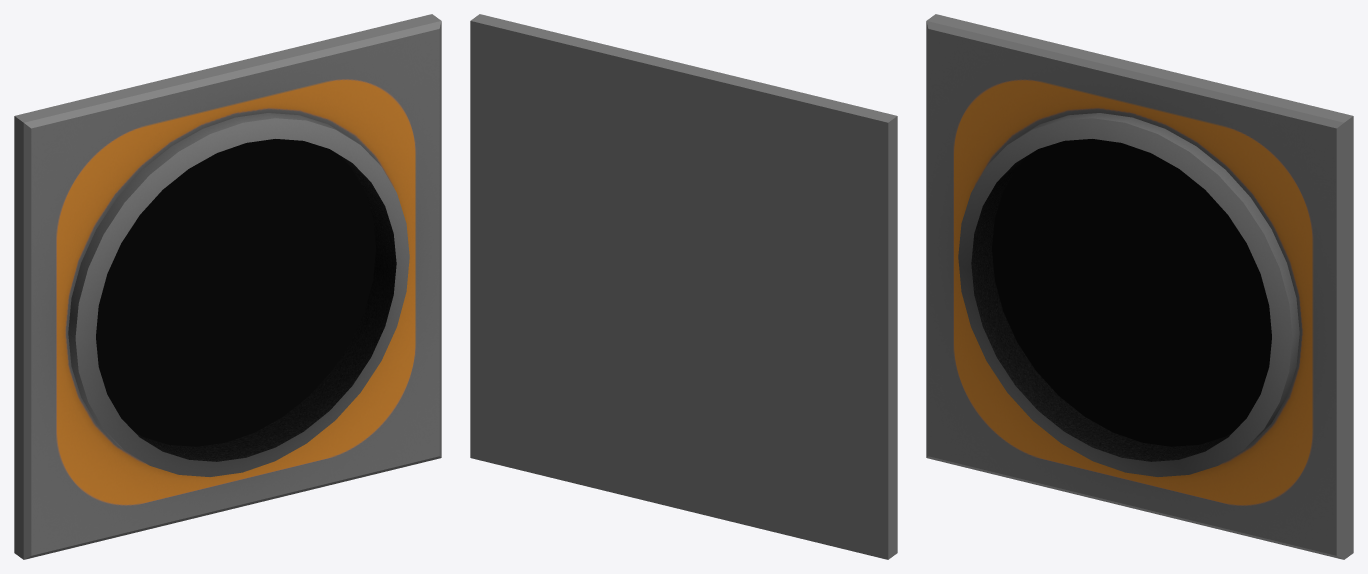
File: pushbutton_base.gltf
The picture shows the model from 3 angles, left to right: view 1: azimuth 30°, elevation 25°; view 2: azimuth 150°, elevation 25°; view 3: azimuth 330°, elevation 25°; orthographic projection.
Visible parts, largest first — view 1: pushbutton_base; view 2: pushbutton_base; view 3: pushbutton_base.
Boxes of the visible parts, x1=… form: pushbutton_base: x1=14, y1=14, x2=441, y2=559; pushbutton_base: x1=470, y1=14, x2=897, y2=559; pushbutton_base: x1=926, y1=14, x2=1353, y2=559.
Bounding box in the file's own units: 0.32 × 0.32 × 0.0304.
Materials: 1 (1 with a texture image).
